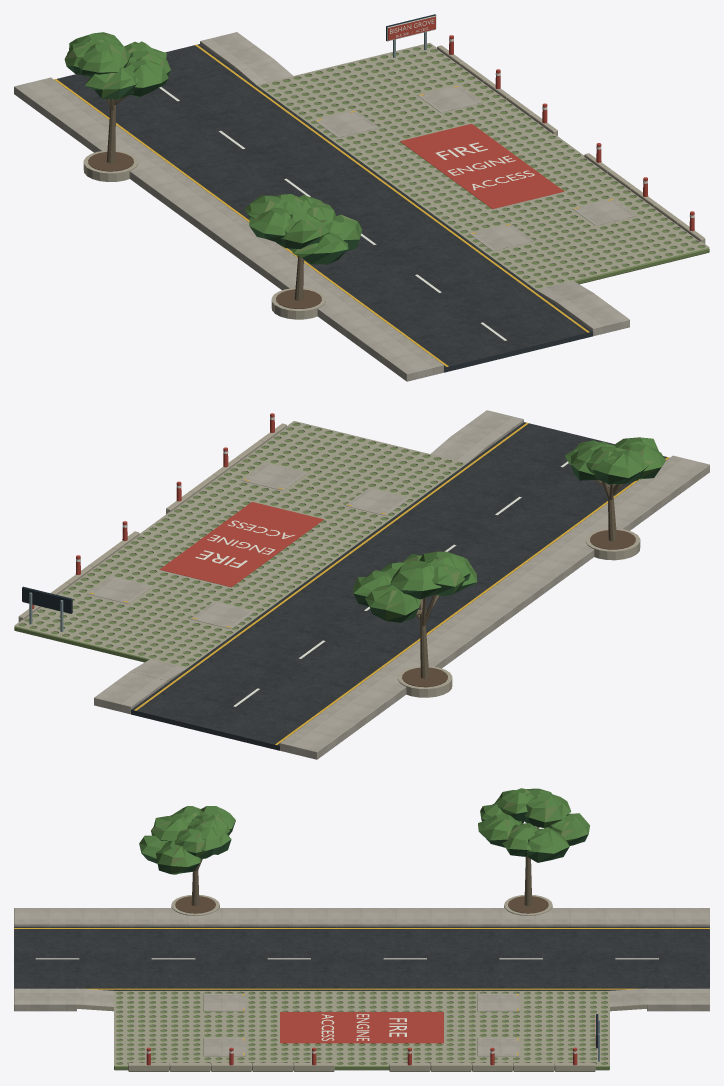
The picture shows the model from 3 angles, top to bottom: view 1: azimuth 30°, elevation 25°; view 2: azimuth 150°, elevation 25°; view 3: azimuth 270°, elevation 25°; orthographic projection. The views are drawn at different scales.
Parts seen in each view (by area): view 1: Running course, Recessed grass cells, Continuous footway, Grass apron subgrade, Rain tree crown clusters, Appliance stencil panel, Flush outrigger pads, Return footways, Edge lines, Apron edge kerbs, Dropped kerb returns, Round tree pits (+5 smaller); view 2: Running course, Recessed grass cells, Continuous footway, Grass apron subgrade, Rain tree crown clusters, Appliance stencil panel, Flush outrigger pads, Return footways, Edge lines, Apron edge kerbs, Dropped kerb returns, Round tree pits (+5 smaller); view 3: Running course, Recessed grass cells, Continuous footway, Rain tree crown clusters, Grass apron subgrade, Appliance stencil panel, Apron edge kerbs, Flush outrigger pads, Return footways, Edge lines, Dropped kerb returns, Mulch beds (+5 smaller).
Boxes of the visible parts, box(x1,y1,x2,y2) form: Running course: box(57, 44, 592, 372); Recessed grass cells: box(257, 43, 709, 289); Continuous footway: box(14, 77, 443, 381); Grass apron subgrade: box(258, 45, 709, 289); Rain tree crown clusters: box(64, 32, 362, 264); Appliance stencil panel: box(400, 123, 563, 209); Flush outrigger pads: box(314, 85, 636, 250); Return footways: box(200, 32, 629, 336); Edge lines: box(54, 44, 589, 366); Apron edge kerbs: box(437, 45, 705, 243); Dropped kerb returns: box(235, 58, 594, 304); Round tree pits: box(83, 150, 326, 319); Running course: box(131, 422, 668, 750); Recessed grass cells: box(14, 421, 466, 667); Continuous footway: box(280, 455, 709, 759); Grass apron subgrade: box(14, 423, 465, 667); Rain tree crown clusters: box(353, 437, 665, 622); Appliance stencil panel: box(159, 502, 323, 587); Flush outrigger pads: box(87, 463, 409, 628); Return footways: box(94, 410, 523, 714); Edge lines: box(134, 422, 669, 744); Apron edge kerbs: box(18, 423, 286, 621); Dropped kerb returns: box(130, 436, 488, 683); Round tree pits: box(397, 528, 640, 697); Running course: box(14, 926, 709, 990); Recessed grass cells: box(114, 991, 609, 1065); Continuous footway: box(14, 908, 709, 926); Rain tree crown clusters: box(139, 788, 589, 874); Grass apron subgrade: box(114, 992, 609, 1070); Appliance stencil panel: box(280, 1012, 443, 1043); Apron edge kerbs: box(128, 1063, 595, 1071); Flush outrigger pads: box(203, 993, 520, 1056); Return footways: box(14, 988, 709, 1011); Edge lines: box(14, 928, 709, 989); Dropped kerb returns: box(77, 988, 646, 1011); Mulch beds: box(175, 896, 548, 913).
Bounding box in the file's own units: 19.67 × 5.95 × 32.
17 materials, 2 textured.
